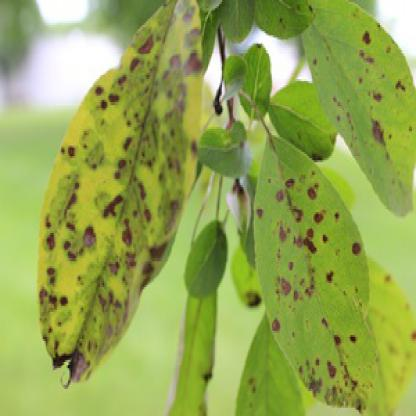apple scab leaf: (28, 2, 205, 387), (251, 133, 390, 414), (288, 4, 415, 229)
